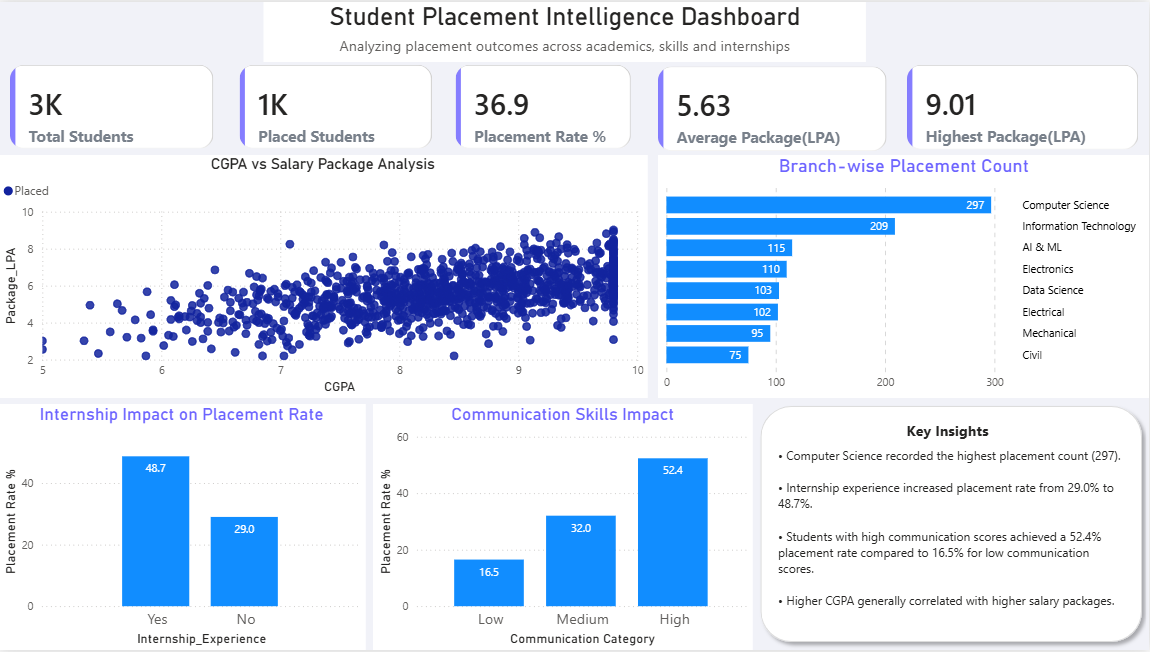

The dashboard page shown, as its layout file describes it:
{"tool":"powerbi","page":{"name":"Page 1","canvas":[1280,720],"ordinal":0},"visuals":[{"type":"shape","box":[838.3,440,441.7,280],"z":0},{"type":"cardVisual","fields":{"Data":["student_placement_intelligence_dataset.Total Students"]},"box":[0,57,252.9,119.3],"z":1000},{"type":"cardVisual","fields":{"Data":["student_placement_intelligence_dataset.Average Package"]},"box":[720,58,280,120],"z":2000},{"type":"cardVisual","fields":{"Data":["student_placement_intelligence_dataset.Highest Package"]},"box":[996.7,56.7,283.3,120],"z":3000},{"type":"cardVisual","fields":{"Data":["student_placement_intelligence_dataset.Placement Rate %"]},"box":[494.7,57,221.1,119.3],"z":4000},{"type":"cardVisual","fields":{"Data":["student_placement_intelligence_dataset.Placed Students"]},"box":[254.5,57,240.2,119.3],"z":5000},{"type":"textbox","title":"Student Placement Intelligence Dashboard","box":[294.3,0,669.6,66.8],"z":6000},{"type":"scatterChart","title":"CGPA vs Salary Package Analysis","fields":{"X":["student_placement_intelligence_dataset.CGPA"],"Y":["student_placement_intelligence_dataset.Package_LPA"],"Series":["student_placement_intelligence_dataset.Placement_Status"]},"box":[0,170,722,270],"z":7000},{"type":"clusteredBarChart","title":"Branch-wise Placement Count","fields":{"Category":["student_placement_intelligence_dataset.Branch"],"Y":["student_placement_intelligence_dataset.Placement Count"]},"box":[733.3,170,546.7,270],"z":8000},{"type":"clusteredColumnChart","title":"Internship Impact on Placement Rate","fields":{"Category":["student_placement_intelligence_dataset.Internship_Experience"],"Y":["student_placement_intelligence_dataset.Placement Rate %"]},"box":[0,446.7,408.3,273.3],"z":9000},{"type":"clusteredColumnChart","title":"Communication Skills Impact","fields":{"Category":["student_placement_intelligence_dataset.Communication Category"],"Y":["student_placement_intelligence_dataset.Placement Rate %"]},"box":[416.7,446.7,421.7,273.3],"z":10000},{"type":"textbox","box":[861.7,460,386.7,41.7],"z":11000},{"type":"textbox","box":[861.7,488.3,398.3,210],"z":11001}]}

Visuals, with their boxes in screenshot pixels (x1, y1, x2, y2), scaled from the page's 1280x720 canvas onto the 1150x652 screenshot:
shape: (x1=753, y1=398, x2=1149, y2=651)
cardVisual - student_placement_intelligence_dataset.Total Students: (x1=0, y1=52, x2=227, y2=160)
cardVisual - student_placement_intelligence_dataset.Average Package: (x1=647, y1=53, x2=898, y2=161)
cardVisual - student_placement_intelligence_dataset.Highest Package: (x1=895, y1=51, x2=1149, y2=160)
cardVisual - student_placement_intelligence_dataset.Placement Rate %: (x1=444, y1=52, x2=643, y2=160)
cardVisual - student_placement_intelligence_dataset.Placed Students: (x1=229, y1=52, x2=444, y2=160)
"Student Placement Intelligence Dashboard" textbox: (x1=264, y1=0, x2=866, y2=60)
"CGPA vs Salary Package Analysis" scatterChart: (x1=0, y1=154, x2=649, y2=398)
"Branch-wise Placement Count" clusteredBarChart: (x1=659, y1=154, x2=1149, y2=398)
"Internship Impact on Placement Rate" clusteredColumnChart: (x1=0, y1=405, x2=367, y2=651)
"Communication Skills Impact" clusteredColumnChart: (x1=374, y1=405, x2=753, y2=651)
textbox: (x1=774, y1=417, x2=1122, y2=454)
textbox: (x1=774, y1=442, x2=1132, y2=632)
